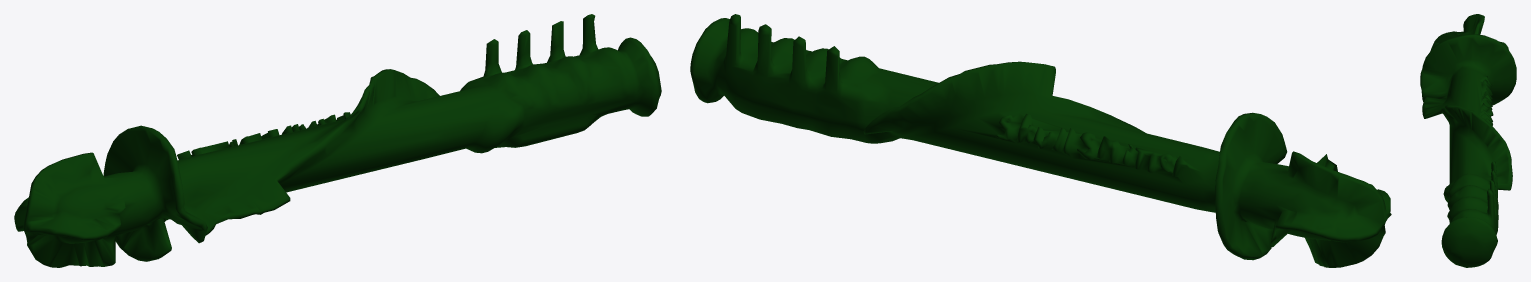
The model's file is haft.FBX.
3 views of the same model, side by side, from view 1: azimuth 30°, elevation 25°; view 2: azimuth 150°, elevation 25°; view 3: azimuth 270°, elevation 25° (orthographic). The views are drawn at different scales.
Parts seen in each view (by area): view 1: haft; view 2: haft; view 3: haft.
Boxes of the visible parts, <box> form: haft: <box>14,14,661,267</box>; haft: <box>690,14,1391,267</box>; haft: <box>1420,14,1516,267</box>.
Size of the model in its own units: 105 by 19.37 by 20.2.
